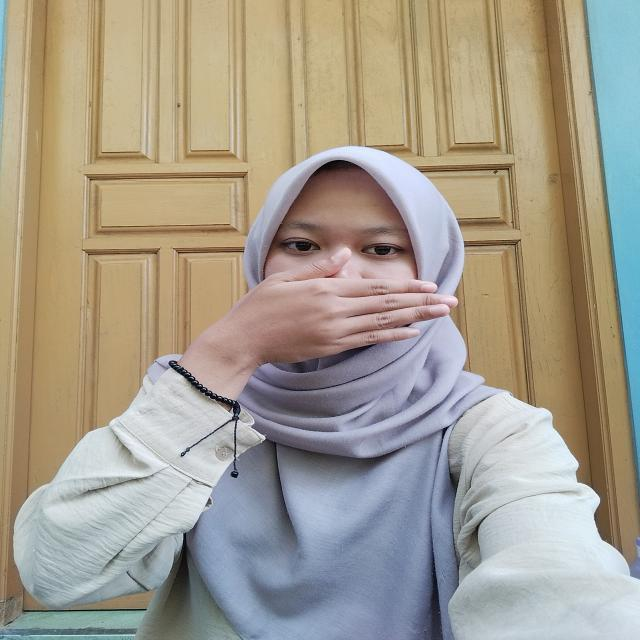buruk: (208, 235, 484, 372)
